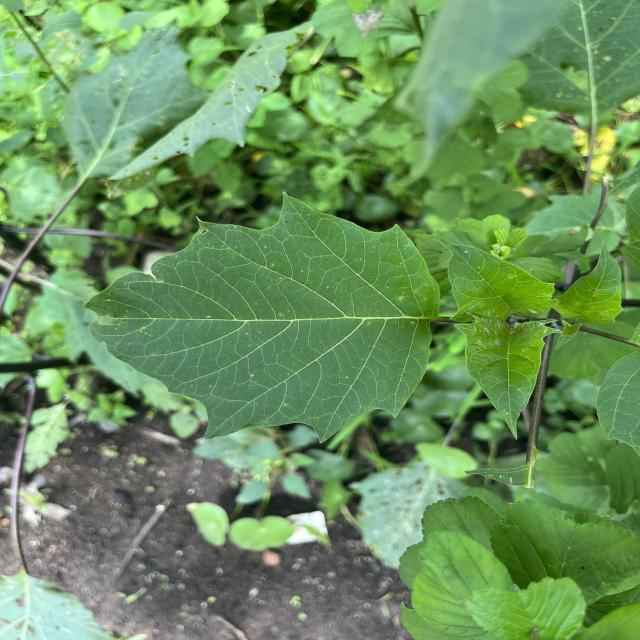Datura metal linn: (78, 188, 445, 448)
